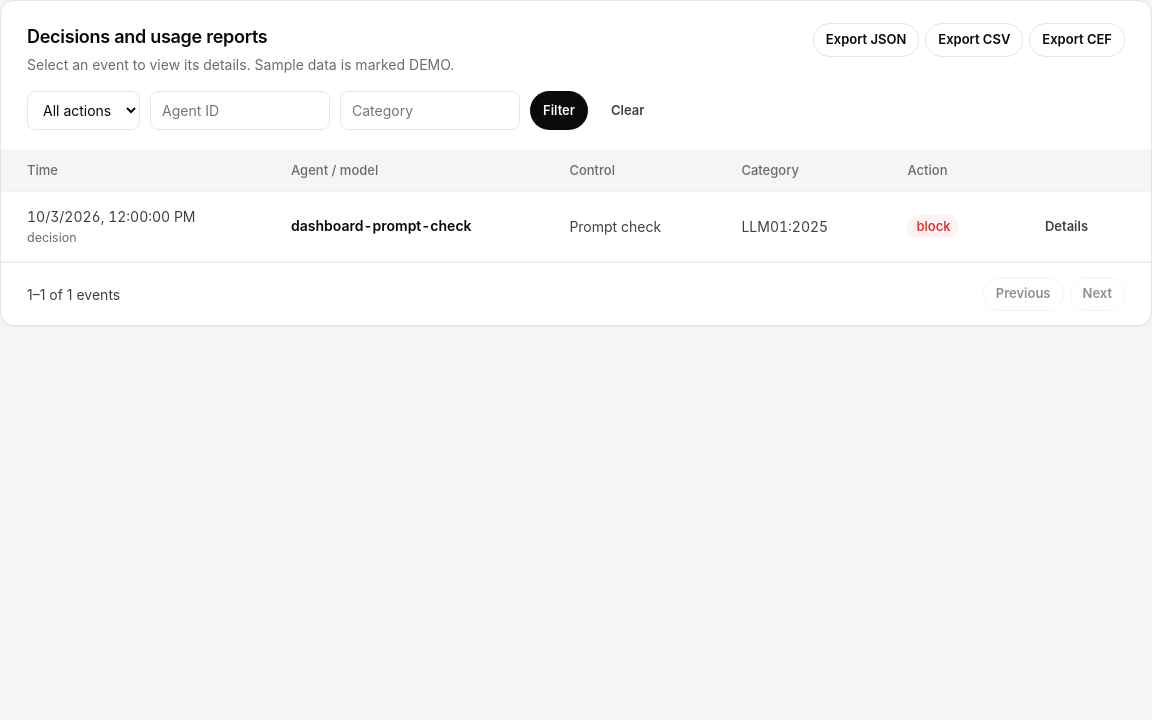
shows the gateway prompt check in Events and displays its persisted results in details
Click the button with aria-label "Event details prompt-check-1".
click(1066, 226)  # box [1032,210,1101,243]
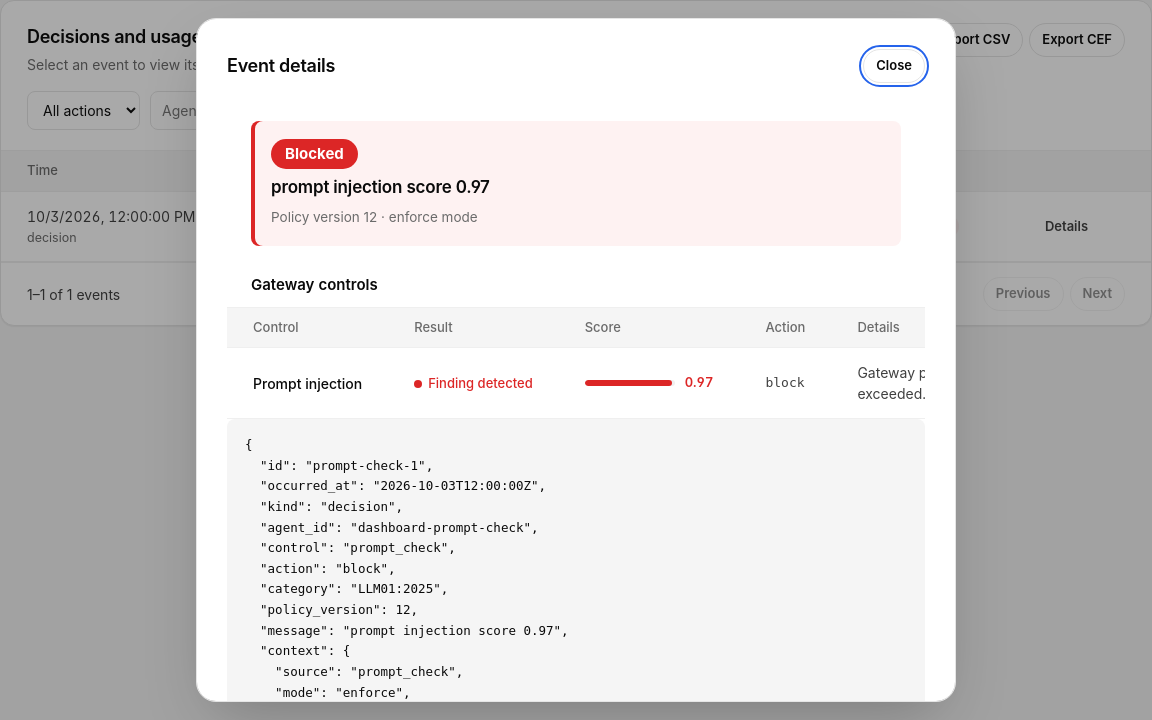
Expected: the text "Blocked" is shown, [271,138,358,169]
Expected: the text "Policy version 12 · enforce mode" is shown, [271,208,478,224]
Expected: the text "Finding detected" is shown once, [414,374,533,394]
